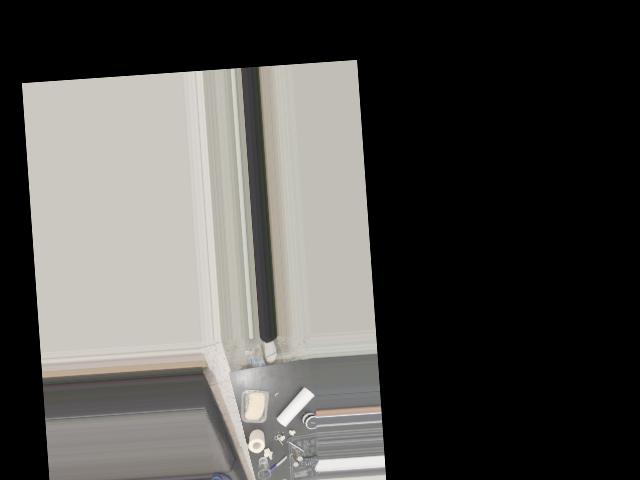cheese: (237, 384, 272, 425)
